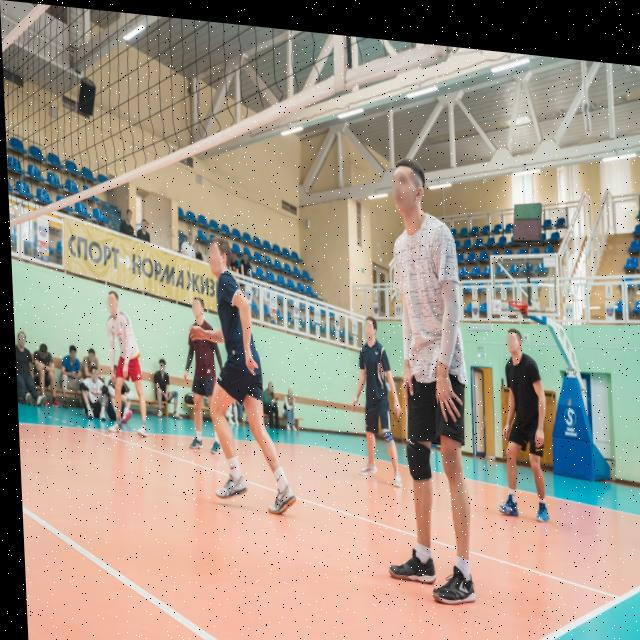Person: (360, 139, 479, 618), (199, 225, 291, 547), (488, 309, 555, 513), (344, 298, 406, 491), (102, 275, 153, 452), (176, 292, 224, 449), (11, 326, 36, 412), (31, 335, 58, 412), (55, 339, 82, 413), (150, 356, 177, 420), (80, 360, 103, 425), (255, 373, 280, 431), (276, 378, 298, 428), (116, 198, 135, 247), (169, 224, 193, 259), (135, 212, 155, 252), (78, 345, 97, 373), (237, 246, 252, 273), (228, 242, 237, 275), (190, 240, 203, 262)
